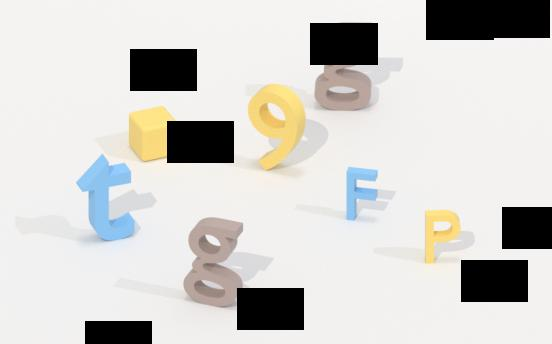9: (247, 81, 308, 178)
F: (341, 161, 382, 227)
g: (181, 215, 249, 312), (314, 20, 372, 117)
hop: (123, 105, 183, 163)
p: (420, 206, 464, 266)
t: (75, 151, 138, 242)
